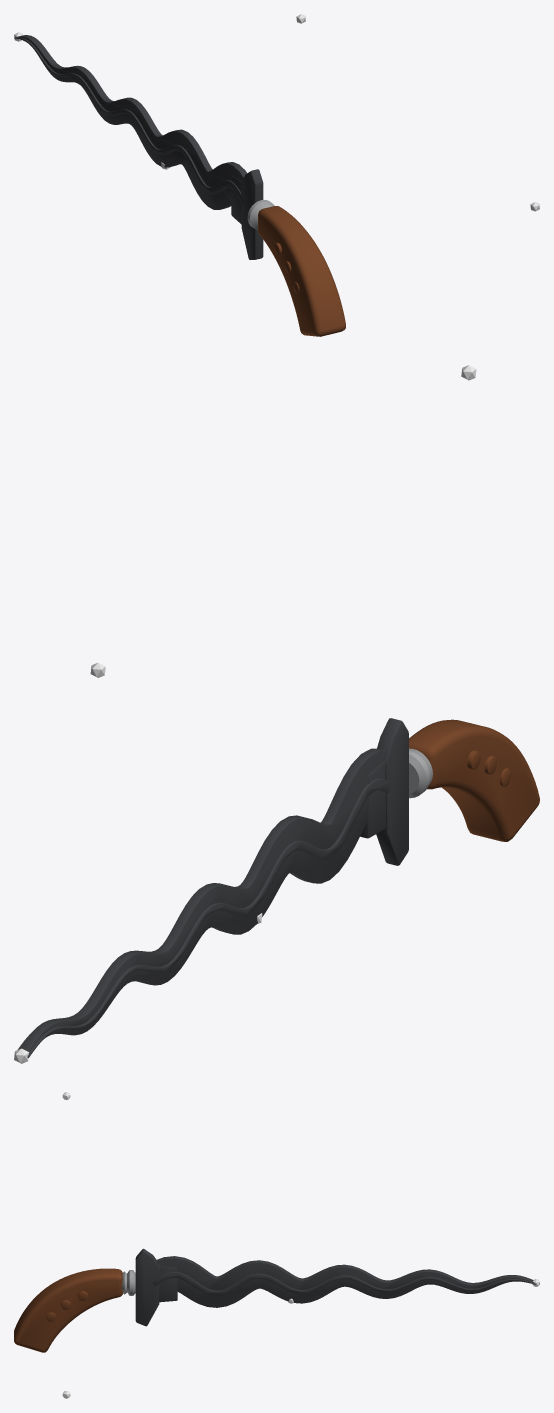
File: Keris.glb
3 renders of one model, top to bottom at view 1: azimuth 30°, elevation 25°; view 2: azimuth 150°, elevation 25°; view 3: azimuth 270°, elevation 25°, orthographic. The views are drawn at different scales.
Visible parts, largest first — view 1: Blade, Hilt, Ganja; view 2: Blade, Hilt, Ganja, Collar; view 3: Blade, Hilt, Ganja.
Part boxes in pixels (bbox=[...]): Blade: bbox=[14, 35, 246, 224]; Hilt: bbox=[258, 206, 345, 336]; Ganja: bbox=[241, 169, 263, 259]; Blade: bbox=[17, 748, 394, 1057]; Hilt: bbox=[409, 719, 539, 841]; Ganja: bbox=[376, 718, 408, 865]; Collar: bbox=[409, 748, 432, 798]; Blade: bbox=[152, 1256, 535, 1307]; Hilt: bbox=[14, 1268, 123, 1352]; Ganja: bbox=[135, 1248, 160, 1326].
Size of the model in its own units: 1.08 by 1.26 by 2.34.
